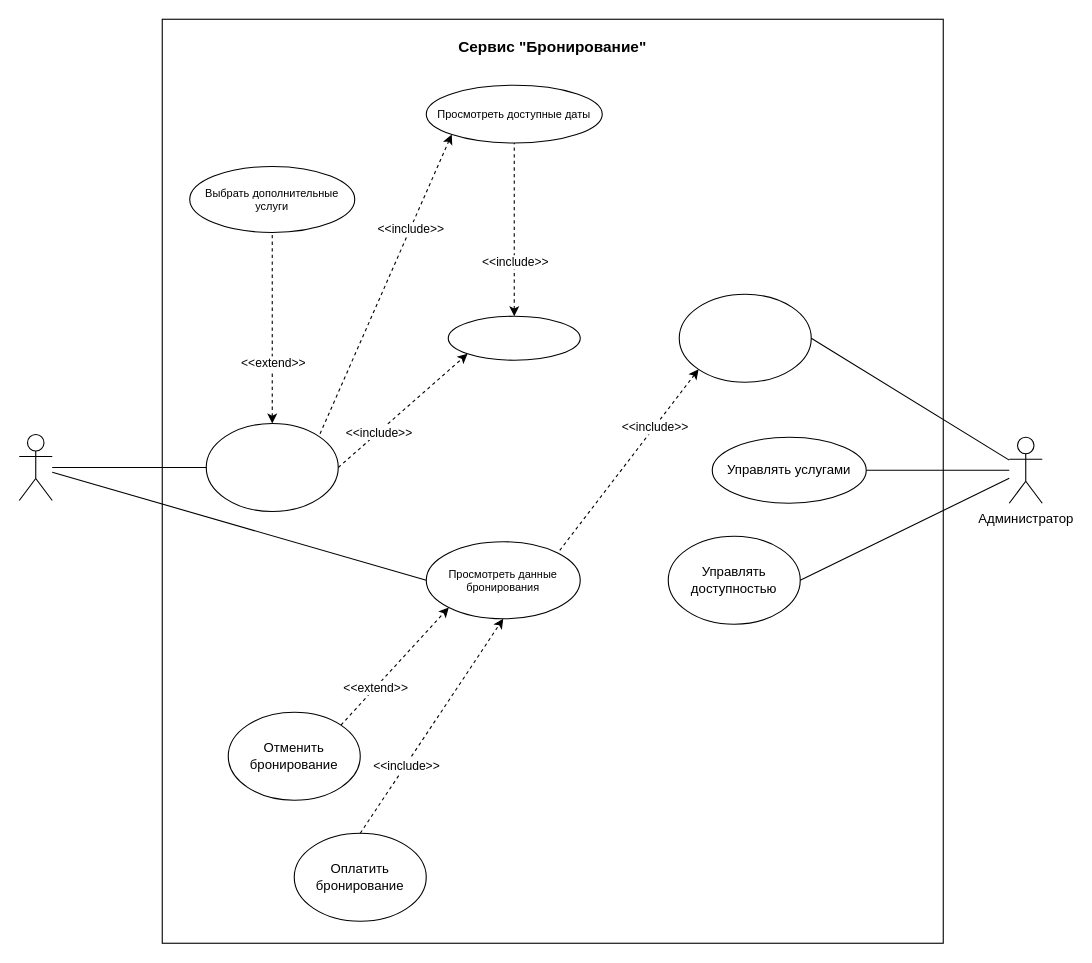
Some shapes in this 1092 by 963 pixel diagram are drawn without their labels. The centre of each missing label's shape, as x and y in pixels:
Выбрать даты визита: the point at 513,337
Гость: the point at 35,467
Подтвердить бронирование: the point at 744,337
Создать бронирование: the point at 271,467
